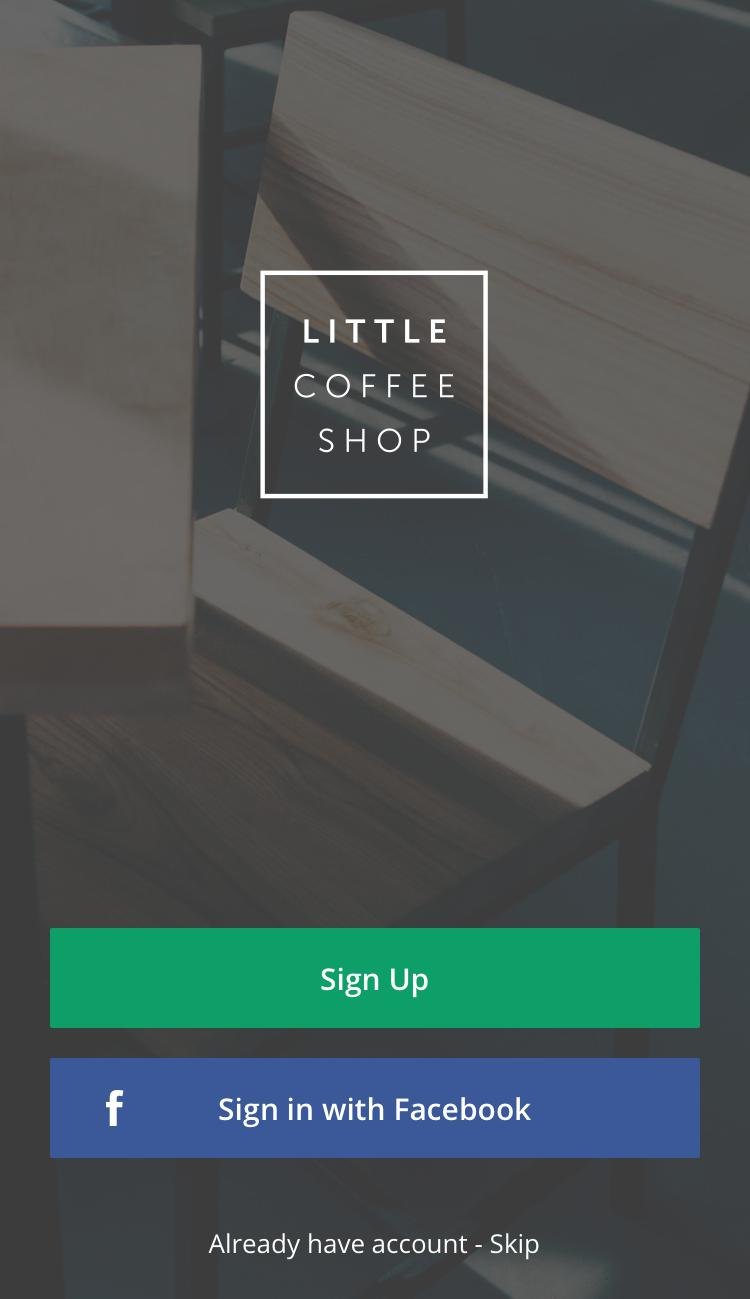BackgroundImage: (1, 1, 750, 1299)
Image: (260, 270, 489, 500)
Text: (208, 1232, 540, 1261)
TextButton: (50, 927, 701, 1029), (51, 1057, 701, 1159)
